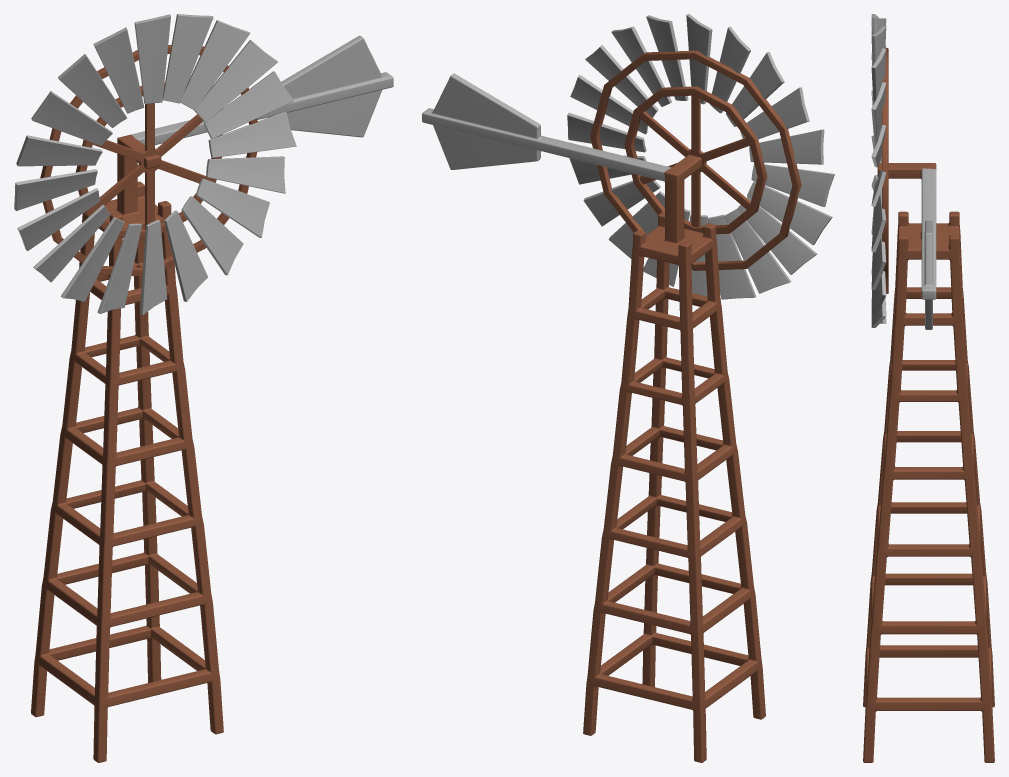
File: Windmill.glb
3 renders of one model, left to right at view 1: azimuth 30°, elevation 25°; view 2: azimuth 150°, elevation 25°; view 3: azimuth 270°, elevation 25°, orthographic. The views are drawn at different scales.
Visible parts, largest first — view 1: Windmill, Windmill_Blades; view 2: Windmill, Windmill_Blades; view 3: Windmill, Windmill_Blades.
Boxes of the visible parts, x1=… form: Windmill: x1=31, y1=35, x2=393, y2=762; Windmill_Blades: x1=14, y1=14, x2=296, y2=315; Windmill: x1=422, y1=73, x2=765, y2=762; Windmill_Blades: x1=567, y1=14, x2=834, y2=299; Windmill: x1=863, y1=163, x2=994, y2=762; Windmill_Blades: x1=871, y1=14, x2=888, y2=327.
Bounding box in the file's own units: 6.51 × 11.19 × 1.9.
